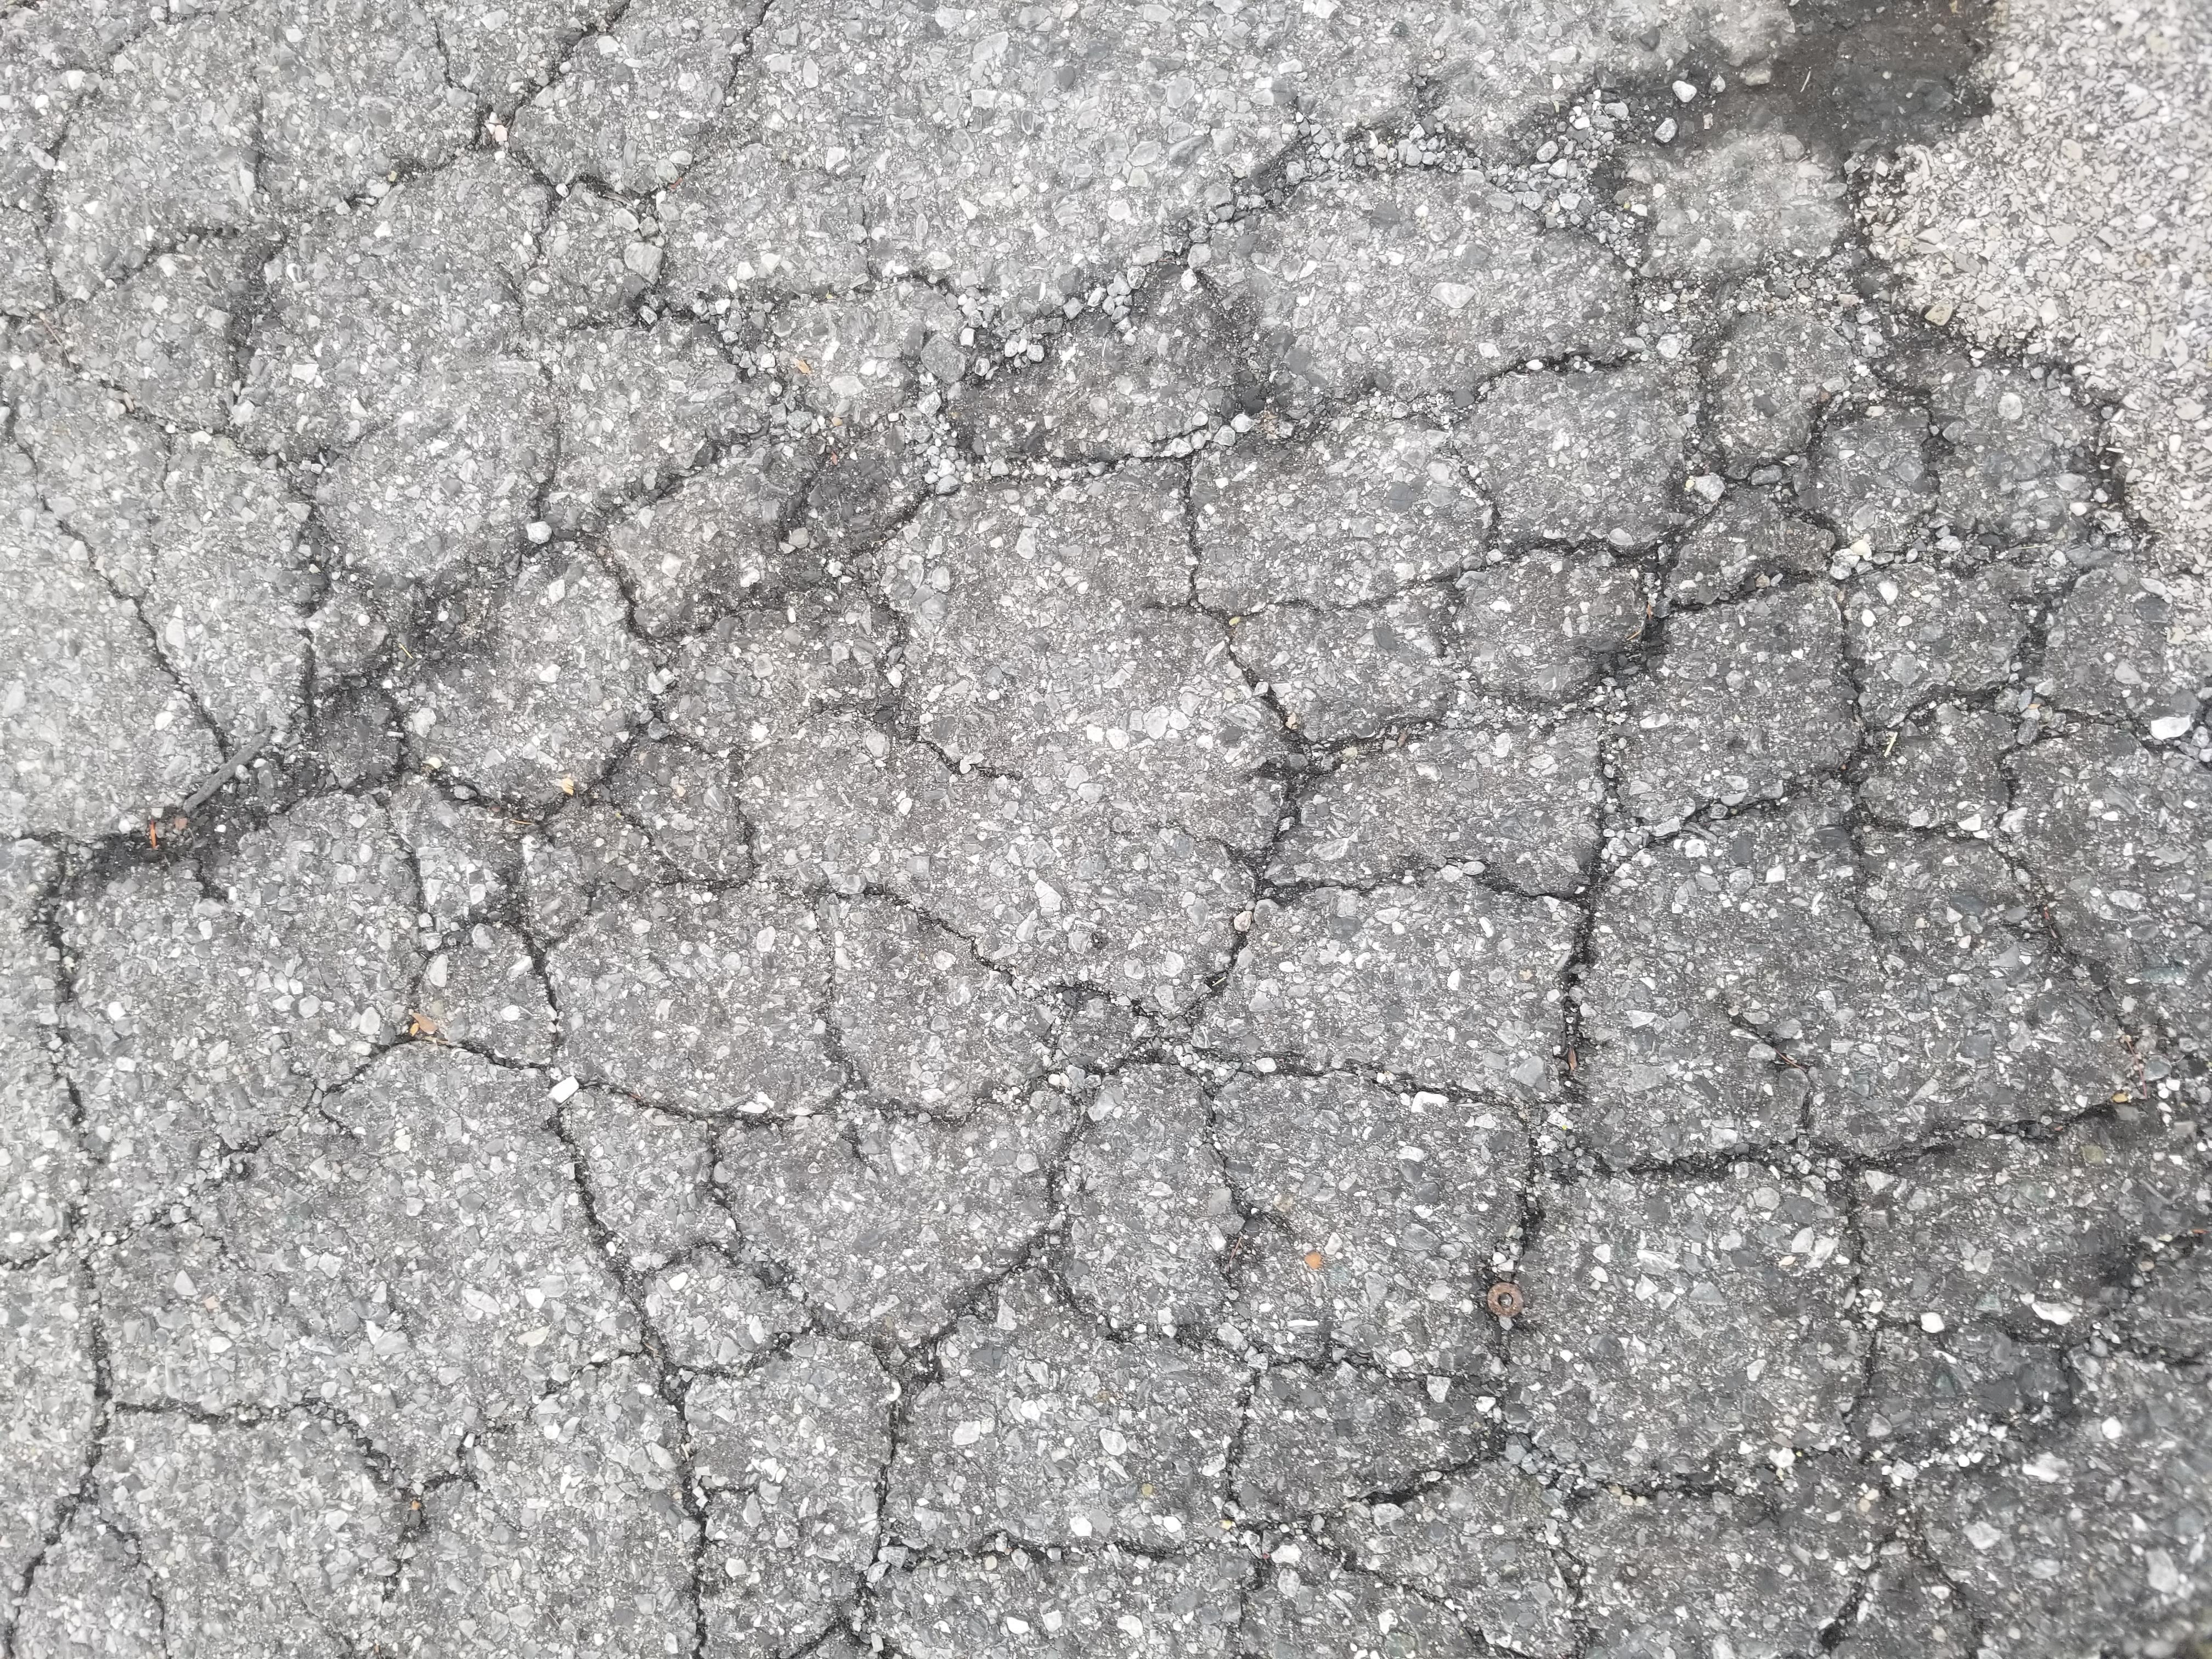crack: (45, 30, 2174, 1631)
